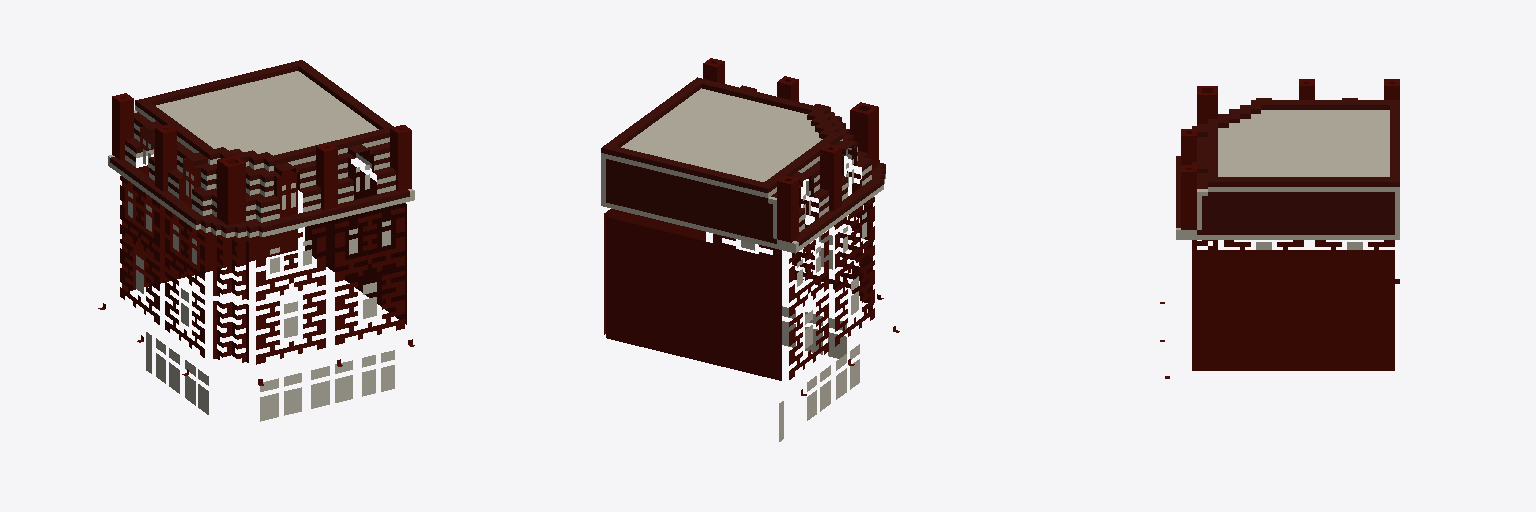
3 views of the same model, side by side, from view 1: azimuth 30°, elevation 25°; view 2: azimuth 150°, elevation 25°; view 3: azimuth 270°, elevation 25° (orthographic).
Parts seen in each view (by area): view 1: fried_fish2; view 2: fried_fish2; view 3: fried_fish2.
Boxes of the visible parts, x1=… form: fried_fish2: x1=98, y1=60, x2=414, y2=421; fried_fish2: x1=601, y1=58, x2=899, y2=441; fried_fish2: x1=1160, y1=79, x2=1399, y2=378.
Bounding box in the file's own units: 46 × 60 × 47.
Materials: 1 (1 with a texture image).